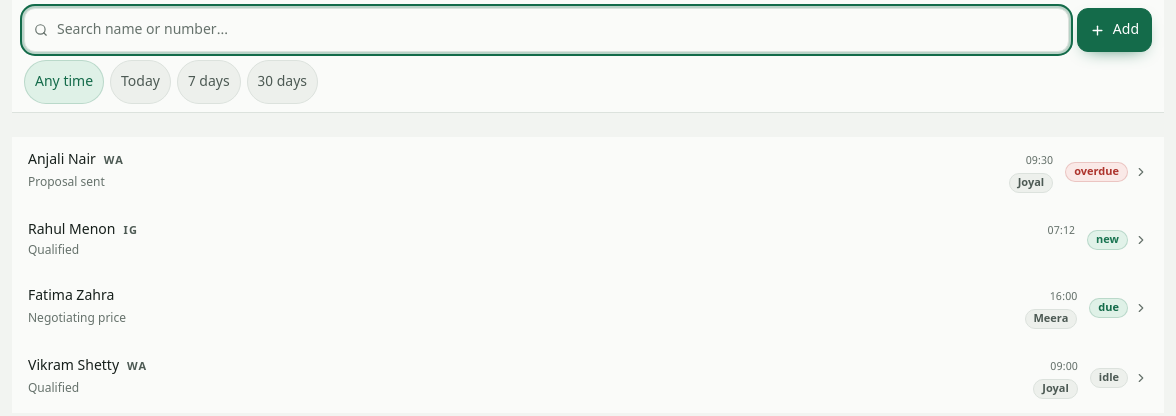
Test: CrmScreen › searches by name and by number
In the search field named "Search leads": (546, 30) [24,8,1069,52], type "anjali"
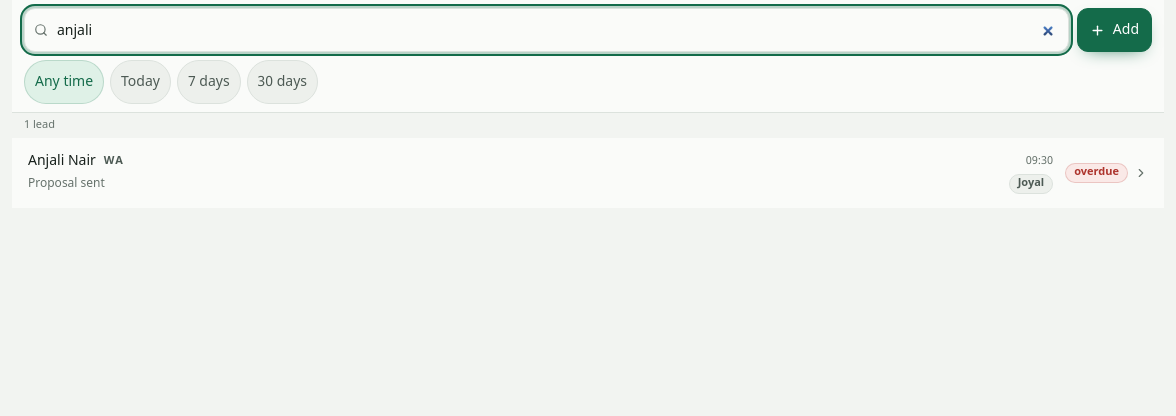
Expected: the text "Anjali Nair" is shown, [28,152,96,172]
Result: the button "Rahul Menon" is gone
Replace the text in the search field named "Search leads" with "67890": (546, 30) [24,8,1069,52]
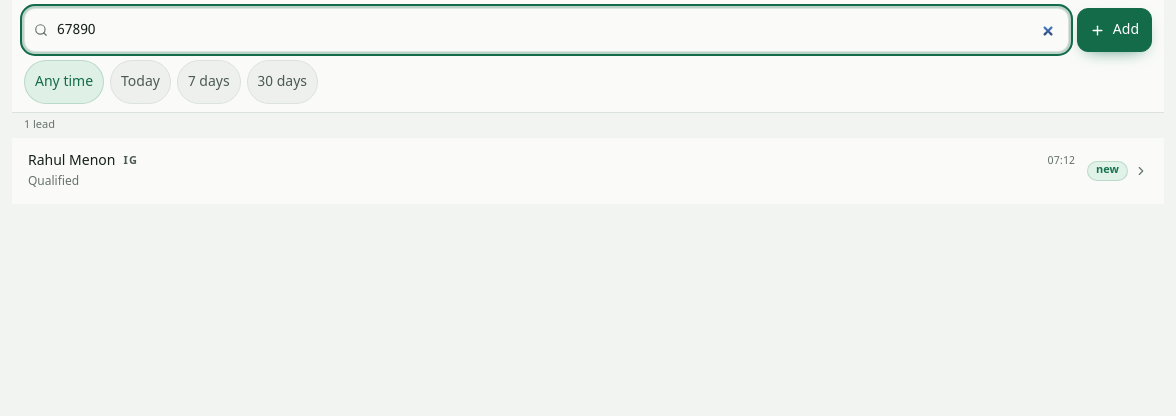
Result: the text "Rahul Menon" is shown at [28,152,116,172]
Result: the button "Anjali Nair" is gone
